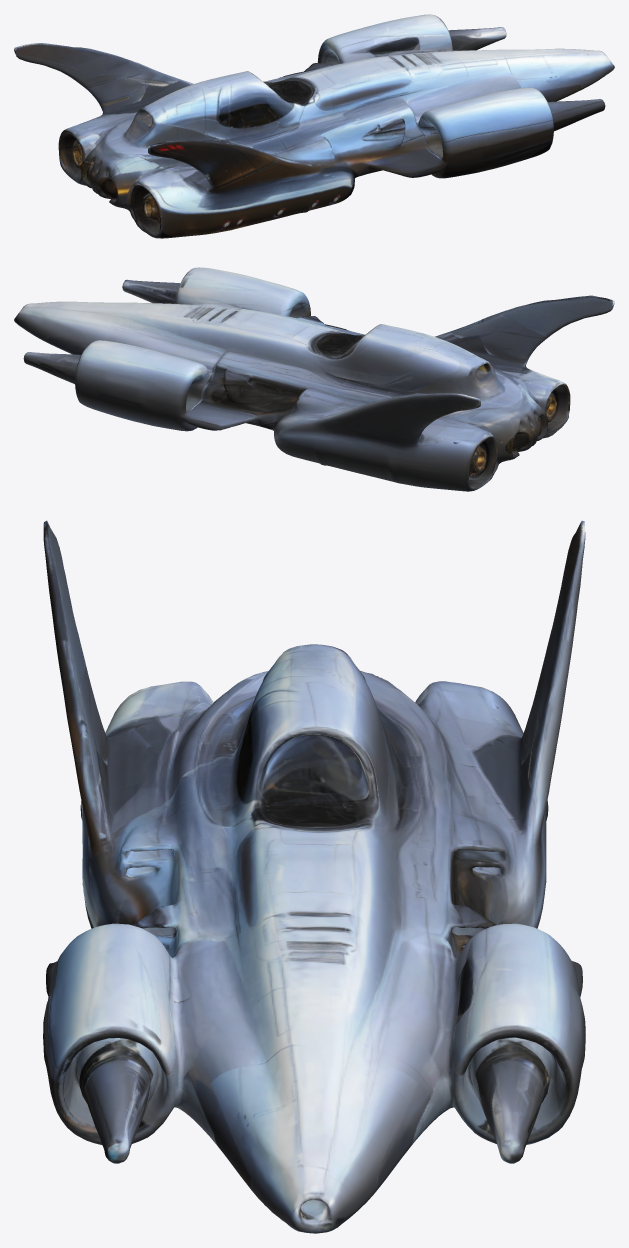
The model's file is a_spaceship_designed__1016114019_refine.fbx.
3 renders of one model, top to bottom at view 1: azimuth 30°, elevation 25°; view 2: azimuth 150°, elevation 25°; view 3: azimuth 270°, elevation 25°, orthographic. The views are drawn at different scales.
Visible parts, largest first — view 1: Mesh_0; view 2: Mesh_0; view 3: Mesh_0.
Boxes of the visible parts, x1,y1,x2,y2 form: Mesh_0: [14, 14, 614, 238]; Mesh_0: [14, 267, 614, 491]; Mesh_0: [43, 520, 585, 1233].
Bounding box in the file's own units: 201 × 46.37 × 88.82.
Materials: 1 (1 with a texture image).
